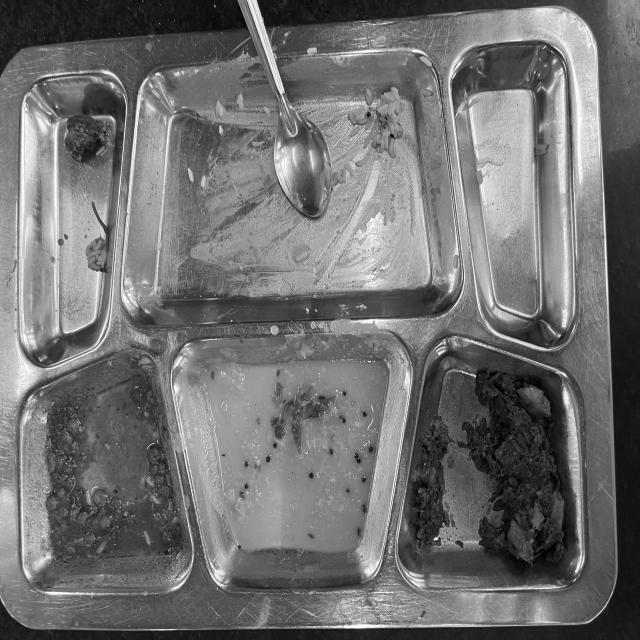20.7- Food Left: (15, 61, 588, 614)
